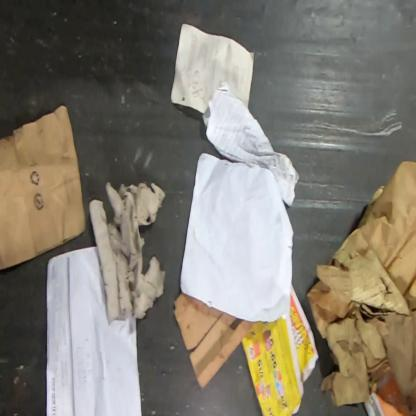cardboard: (0, 103, 88, 272), (88, 180, 168, 325), (172, 290, 256, 390)
